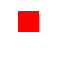square: (18, 11, 38, 31)
